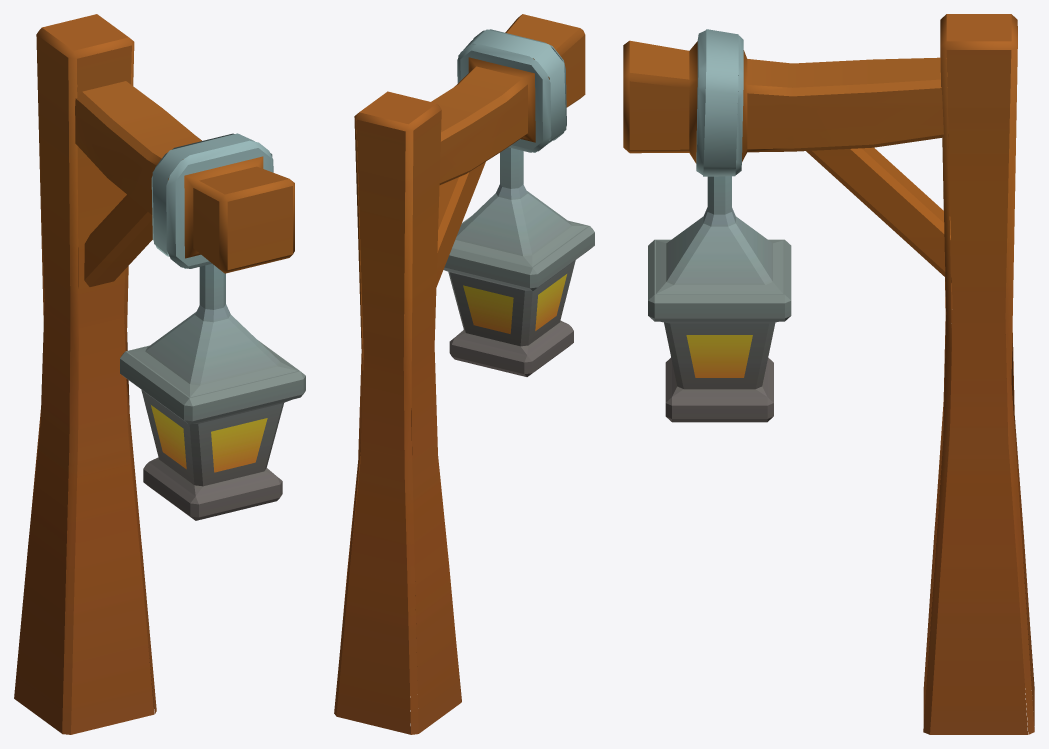
File: decorSmall-village-56.glb
The picture shows the model from 3 angles, left to right: view 1: azimuth 30°, elevation 25°; view 2: azimuth 150°, elevation 25°; view 3: azimuth 270°, elevation 25°; orthographic projection. The views are drawn at different scales.
Parts seen in each view (by area): view 1: piece; view 2: piece; view 3: piece.
Part boxes in pixels (bbox=[...]): piece: bbox=[14, 14, 305, 734]; piece: bbox=[334, 14, 594, 734]; piece: bbox=[623, 14, 1034, 734].
Bounding box in the file's own units: 0.3796 × 2 × 1.09.
1 material, 1 textured.
